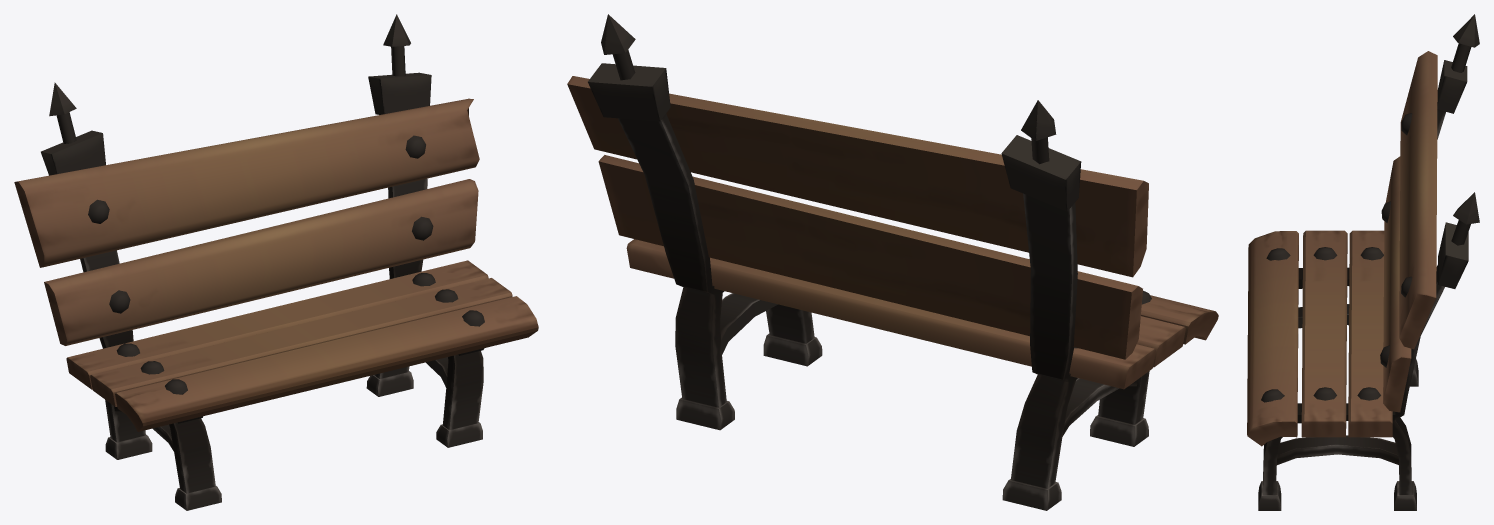
The model's file is BenchA.fbx.
3 renders of one model, left to right at view 1: azimuth 30°, elevation 25°; view 2: azimuth 150°, elevation 25°; view 3: azimuth 270°, elevation 25°, orthographic. The views are drawn at different scales.
Parts seen in each view (by area): view 1: BenchA_001; view 2: BenchA_001; view 3: BenchA_001.
Boxes of the visible parts, x1=… form: BenchA_001: x1=14, y1=14, x2=538, y2=510; BenchA_001: x1=567, y1=14, x2=1218, y2=510; BenchA_001: x1=1247, y1=14, x2=1479, y2=510.
Bounding box in the file's own units: 87.05 × 64.62 × 39.45.
